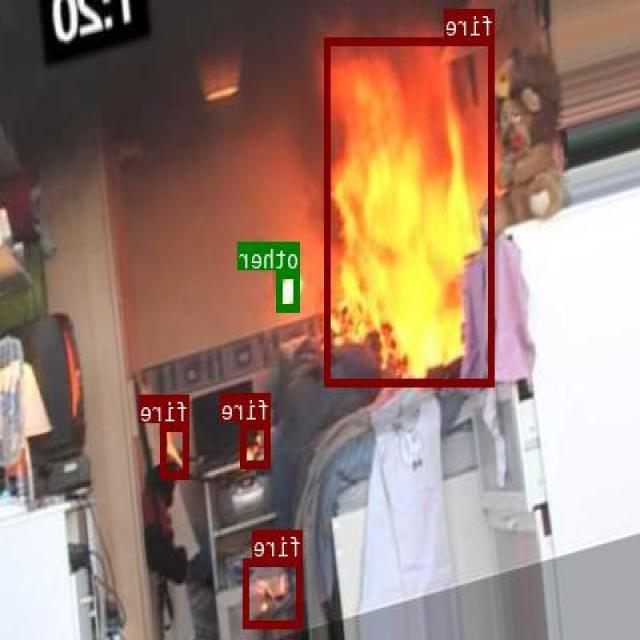fire: (325, 36, 496, 385), (244, 558, 304, 627), (162, 422, 189, 476), (242, 421, 272, 467)
other: (278, 269, 301, 311)
